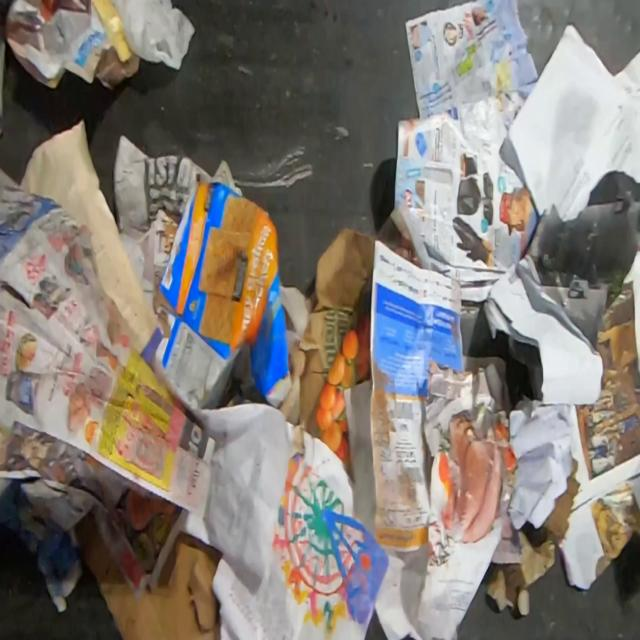cardboard: (137, 177, 292, 439), (74, 510, 224, 640), (297, 225, 379, 431), (482, 455, 581, 618), (279, 284, 316, 427)
rigid_plastic: (527, 169, 640, 309)
soft_plastic: (109, 0, 197, 71)
